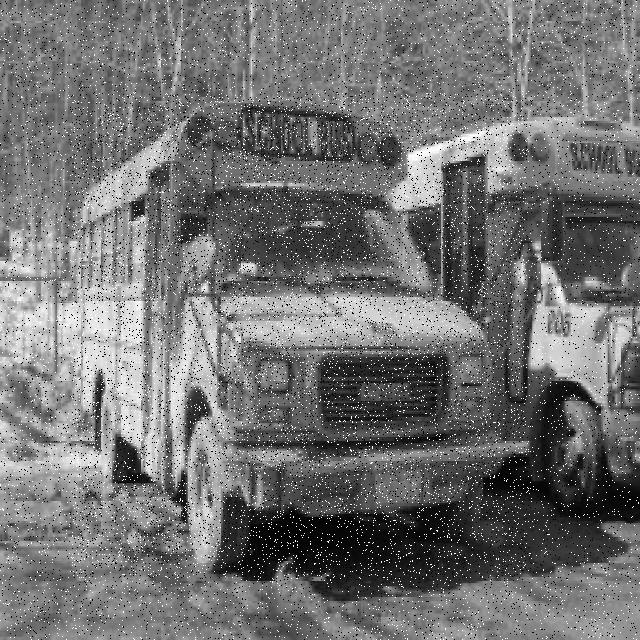Bus- Small: (72, 94, 527, 578)
